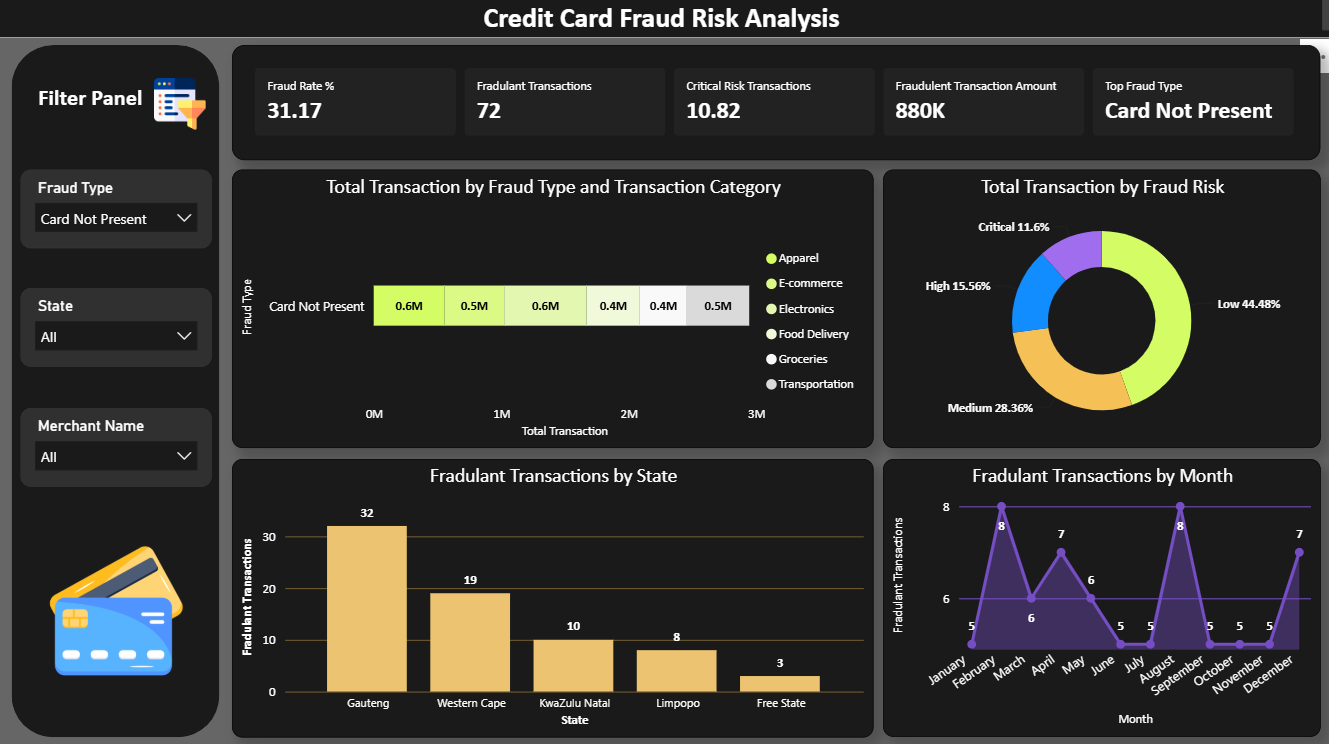

The dashboard page shown, as its layout file describes it:
{"tool":"powerbi","page":{"name":"Page 1","canvas":[1280,720],"ordinal":0},"visuals":[{"type":"textbox","box":[0,0,1280.2,41.3],"z":0},{"type":"shape","box":[16.1,48.4,198.6,661.2],"z":1000},{"type":"group","id":"g1","title":"Group 1","box":[30.2,79.6,171.3,55.4],"z":2000},{"type":"textbox","box":[30.2,79.6,122,55.4],"z":2000,"group":"g1"},{"type":"image","box":[152.1,80.3,49.4,49.9],"z":2501,"group":"g1"},{"type":"barChart","fields":{"Category":["Credit Card Fraud Risk Analysis.Fraud Type"],"Y":["Credit Card Fraud Risk Analysis.Total_Transaction"],"Series":["Credit Card Fraud Risk Analysis.Transaction Category"]},"box":[226.8,167.3,612.8,266.1],"z":3000},{"type":"donutChart","fields":{"Y":["Credit Card Fraud Risk Analysis.Total_Transaction"],"Category":["Credit Card Fraud Risk Analysis.Fraud Risk"]},"box":[847.6,167.3,418.3,266.1],"z":4000},{"type":"columnChart","fields":{"Category":["Credit Card Fraud Risk Analysis.State"],"Y":["Credit Card Fraud Risk Analysis.Fradulant Transactions"]},"box":[226.8,443.5,612.8,266.1],"z":5000},{"type":"lineChart","fields":{"Y":["Credit Card Fraud Risk Analysis.Fradulant Transactions"],"Category":["Credit Card Fraud Risk Analysis.Transaction Date.Variation.Date Hierarchy.Month"]},"box":[847.6,443.5,418.3,265.1],"z":6000},{"type":"slicer","fields":{"Values":["Credit Card Fraud Risk Analysis.Fraud Type"]},"box":[24.2,167.3,182.4,75.6],"z":7000},{"type":"slicer","fields":{"Values":["Credit Card Fraud Risk Analysis.State"]},"box":[24.2,281.2,182.4,75.6],"z":8000},{"type":"slicer","fields":{"Values":["Credit Card Fraud Risk Analysis.Merchant Name"]},"box":[24.2,395.1,182.4,75.6],"z":9000},{"type":"image","box":[27.2,521.1,177.4,135.1],"z":10000},{"type":"cardVisual","fields":{"Data":["Credit Card Fraud Risk Analysis.Fraud Rate %","Credit Card Fraud Risk Analysis.Fradulant Transactions","Credit Card Fraud Risk Analysis.Critical Risk Transactions","Credit Card Fraud Risk Analysis.Fraudulent Transaction Amount","Credit Card Fraud Risk Analysis.Top_Fraud_Type"]},"box":[226.8,48.4,1039.1,109.9],"z":11000}]}

Visuals, with their boxes in screenshot pixels (x1, y1, x2, y2), scaled from the page's 1280x720 canvas onto the 1329x744 screenshot:
textbox: bbox=(0, 0, 1328, 43)
shape: bbox=(17, 50, 223, 733)
"Group 1" group: bbox=(31, 82, 209, 140)
textbox: bbox=(31, 82, 158, 140)
image: bbox=(158, 83, 209, 135)
barChart - Credit Card Fraud Risk Analysis.Fraud Type x Credit Card Fraud Risk Analysis.Total_Transaction: bbox=(235, 173, 872, 448)
donutChart - Credit Card Fraud Risk Analysis.Total_Transaction x Credit Card Fraud Risk Analysis.Fraud Risk: bbox=(880, 173, 1314, 448)
columnChart - Credit Card Fraud Risk Analysis.State x Credit Card Fraud Risk Analysis.Fradulant Transactions: bbox=(235, 458, 872, 733)
lineChart - Credit Card Fraud Risk Analysis.Fradulant Transactions x Credit Card Fraud Risk Analysis.Transaction Date.Variation.Date Hierarchy.Month: bbox=(880, 458, 1314, 732)
slicer - Credit Card Fraud Risk Analysis.Fraud Type: bbox=(25, 173, 215, 251)
slicer - Credit Card Fraud Risk Analysis.State: bbox=(25, 291, 215, 369)
slicer - Credit Card Fraud Risk Analysis.Merchant Name: bbox=(25, 408, 215, 486)
image: bbox=(28, 538, 212, 678)
cardVisual - Credit Card Fraud Risk Analysis.Fraud Rate % x Credit Card Fraud Risk Analysis.Fradulant Transactions: bbox=(235, 50, 1314, 164)
